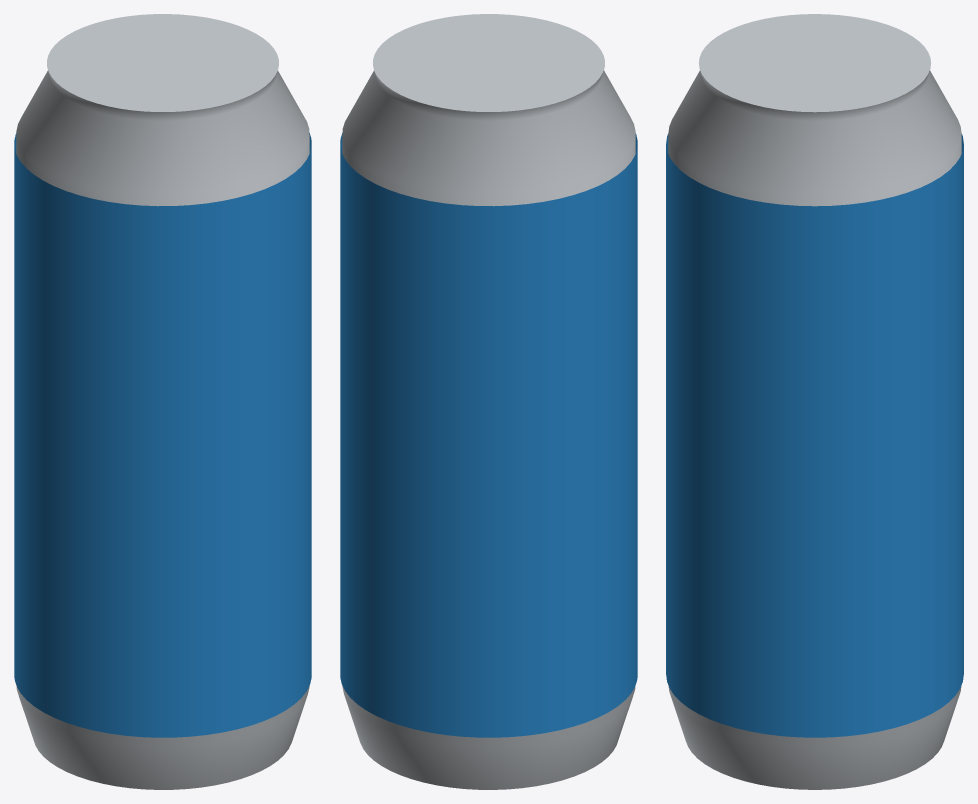
File: lata_slim-azul.glb
3 renders of one model, left to right at view 1: azimuth 30°, elevation 25°; view 2: azimuth 150°, elevation 25°; view 3: azimuth 270°, elevation 25°, orthographic.
Parts seen in each view (by area): view 1: lata_slim-azul; view 2: lata_slim-azul; view 3: lata_slim-azul.
Part boxes in pixels (<box>): lata_slim-azul: <box>14,14,311,789</box>; lata_slim-azul: <box>340,14,637,789</box>; lata_slim-azul: <box>666,14,963,789</box>.
Size of the model in its own units: 0.0538 by 0.134 by 0.0538.
